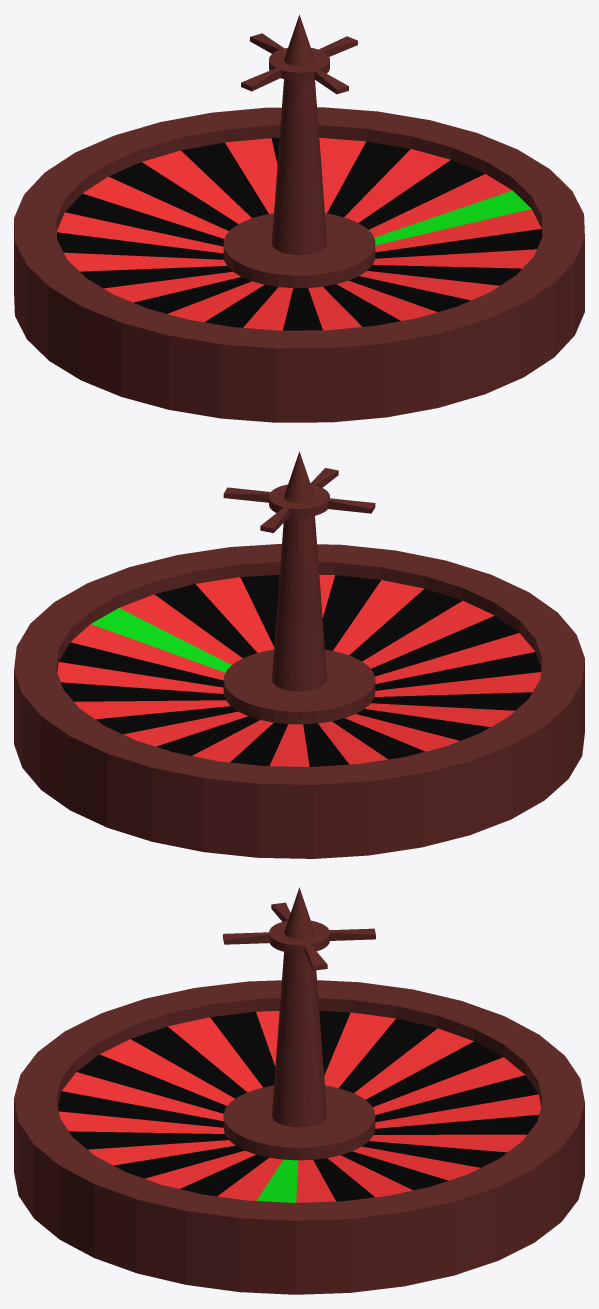
Rendered from ruleta.fbx.
3 renders of one model, top to bottom at view 1: azimuth 30°, elevation 25°; view 2: azimuth 150°, elevation 25°; view 3: azimuth 270°, elevation 25°, orthographic.
Parts seen in each view (by area): view 1: Cylinder; view 2: Cylinder; view 3: Cylinder.
Part boxes in pixels (left/top/right/bottom): Cylinder: left=14, top=14, right=584, bottom=422; Cylinder: left=14, top=451, right=584, bottom=858; Cylinder: left=14, top=887, right=584, bottom=1294.
Size of the model in its own units: 494 by 274 by 494.
